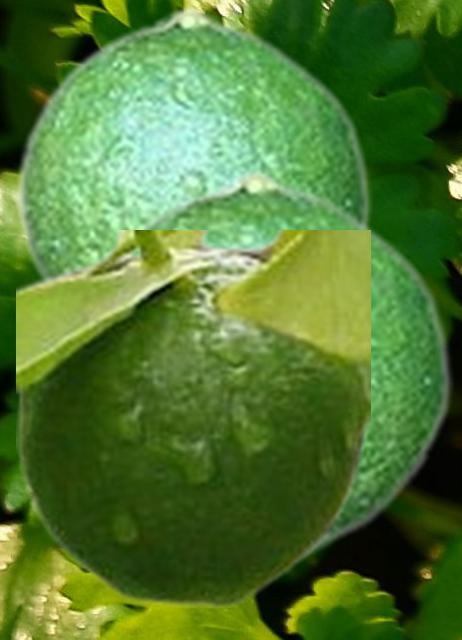dalandan: (107, 168, 452, 565), (16, 230, 369, 606), (13, 5, 371, 277)
